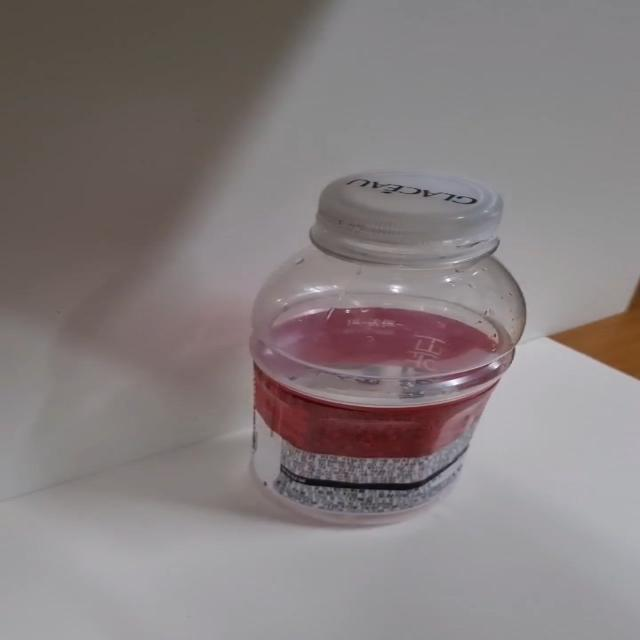Plastic: (247, 170, 528, 530)
